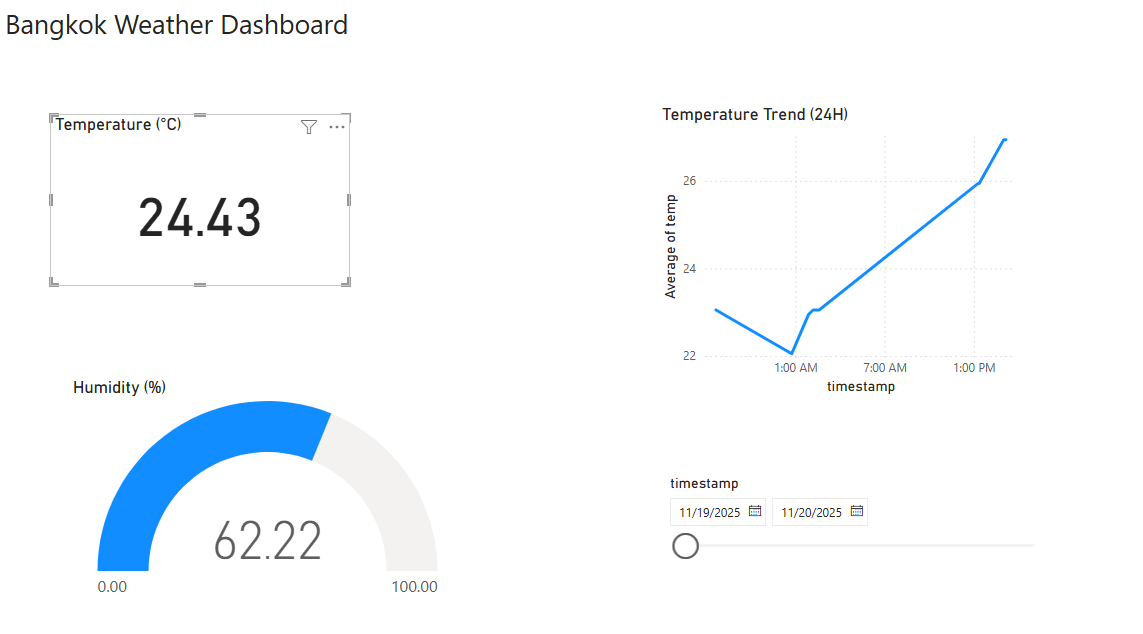

The dashboard page shown, as its layout file describes it:
{"tool":"powerbi","page":{"name":"Page 1","canvas":[1280,720],"ordinal":0},"visuals":[{"type":"lineChart","title":"Temperature Trend (24H)","fields":{"Y":["Avg(daily_weather.temp)"],"Category":["daily_weather.timestamp"]},"box":[657.1,104.3,375.7,294.3],"z":0},{"type":"card","title":"Temperature (°C)","fields":{"Values":["Avg(daily_weather.temp)"]},"box":[50,114.3,300,171.4],"z":1000},{"type":"gauge","title":"Humidity (%)","fields":{"Y":["Avg(daily_weather.humidity)"]},"box":[68,377,399,230],"z":2000},{"type":"slicer","fields":{"Values":["daily_weather.timestamp"]},"box":[657.1,470,398.6,230],"z":3000},{"type":"textbox","box":[0,0,398.6,55.7],"z":4000}]}

Visuals, with their boxes in screenshot pixels (x1, y1, x2, y2), scaled from the page's 1280x720 canvas onto the 1143x634 screenshot:
"Temperature Trend (24H)" lineChart: <bbox>587, 92, 922, 351</bbox>
"Temperature (°C)" card: <bbox>45, 101, 313, 252</bbox>
"Humidity (%)" gauge: <bbox>61, 332, 417, 534</bbox>
slicer - daily_weather.timestamp: <bbox>587, 414, 943, 616</bbox>
textbox: <bbox>0, 0, 356, 49</bbox>
